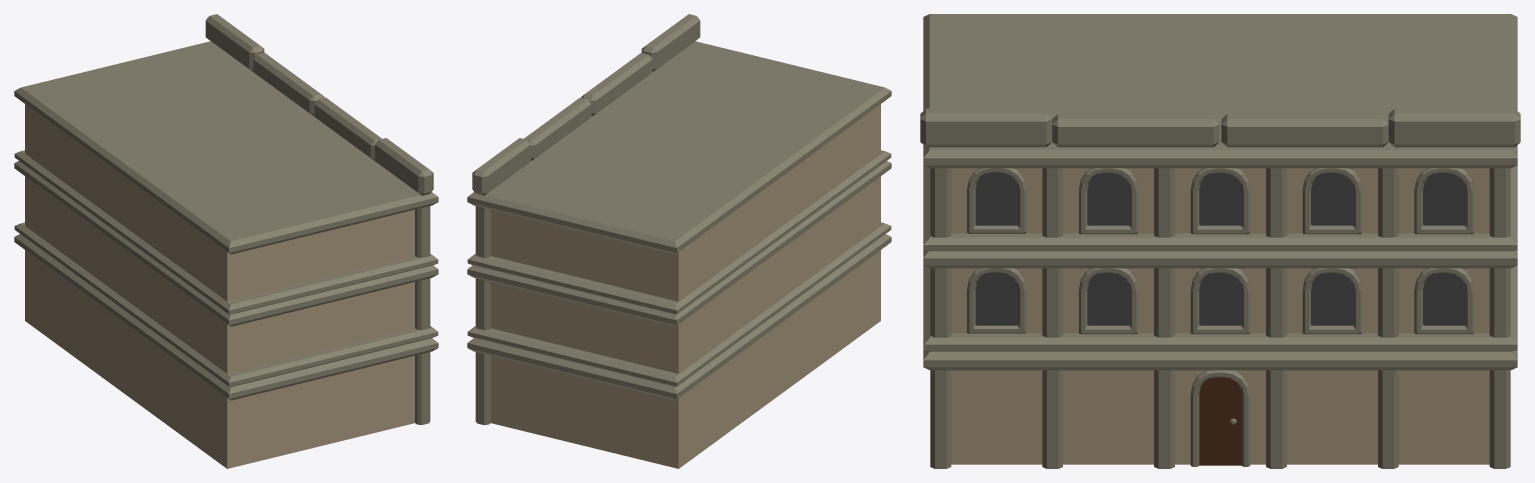
File: Edi_Grande_Ama.fbx
3 renders of one model, left to right at view 1: azimuth 30°, elevation 25°; view 2: azimuth 150°, elevation 25°; view 3: azimuth 270°, elevation 25°, orthographic. The views are drawn at different scales.
Visible parts, largest first — view 1: Cube.049, Cube.069, Cube.071; view 2: Cube.049, Cube.069, Cube.071; view 3: Cube.049, Cube.069, Cube.071, Cube.086, Cube.070.
Part boxes in pixels (<box>): Cube.049: <box>14,41,438,386</box>; Cube.069: <box>14,234,438,468</box>; Cube.071: <box>205,14,433,195</box>; Cube.049: <box>467,41,891,386</box>; Cube.069: <box>467,234,891,468</box>; Cube.071: <box>472,14,700,195</box>; Cube.049: <box>923,14,1517,351</box>; Cube.069: <box>923,265,1517,468</box>; Cube.071: <box>920,108,1520,147</box>; Cube.086: <box>1199,377,1241,465</box>; Cube.070: <box>1190,370,1250,466</box>.
Bounding box in the file's own units: 3819 × 4442 × 6851.
